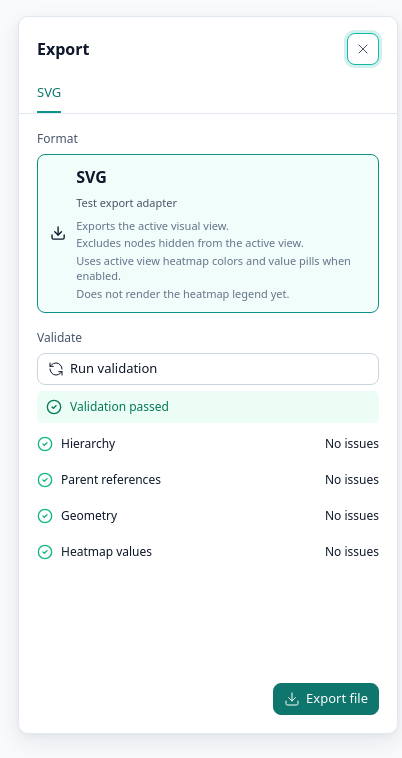
Test: editor export workflows › keeps export busy state until save completes
Click the button "Export file".
click(326, 699)  # box [273,683,379,715]
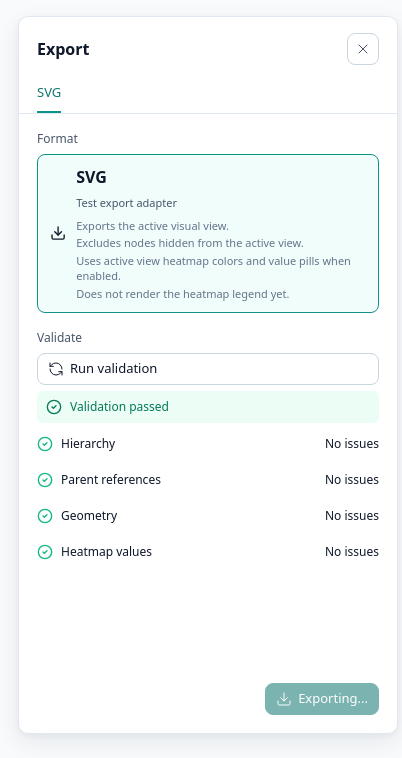
Result: the button "Exporting..." is disabled
Click the button "Exporting...".
click(322, 699)  # box [265,683,379,715]
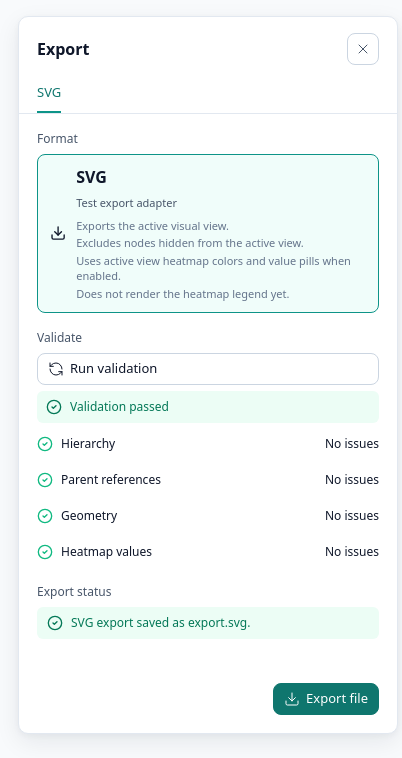
Result: the message reads "SVG export saved as export.svg." at [71,614,250,631]
